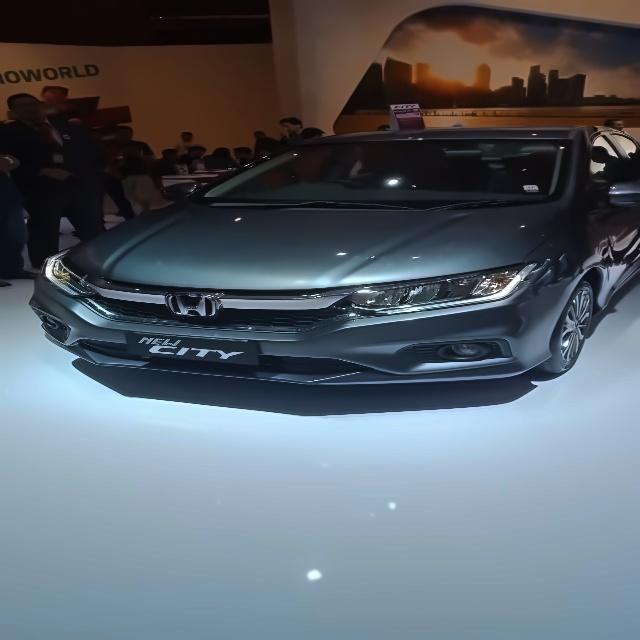Car hood: (70, 192, 570, 297)
Front bumper: (30, 274, 561, 390)
Headlight - -L-: (343, 259, 545, 319)
Headlight - -R-: (42, 250, 99, 306)
Side mirror - -L-: (597, 174, 640, 217)
Side mirror - -R-: (156, 180, 204, 209)
